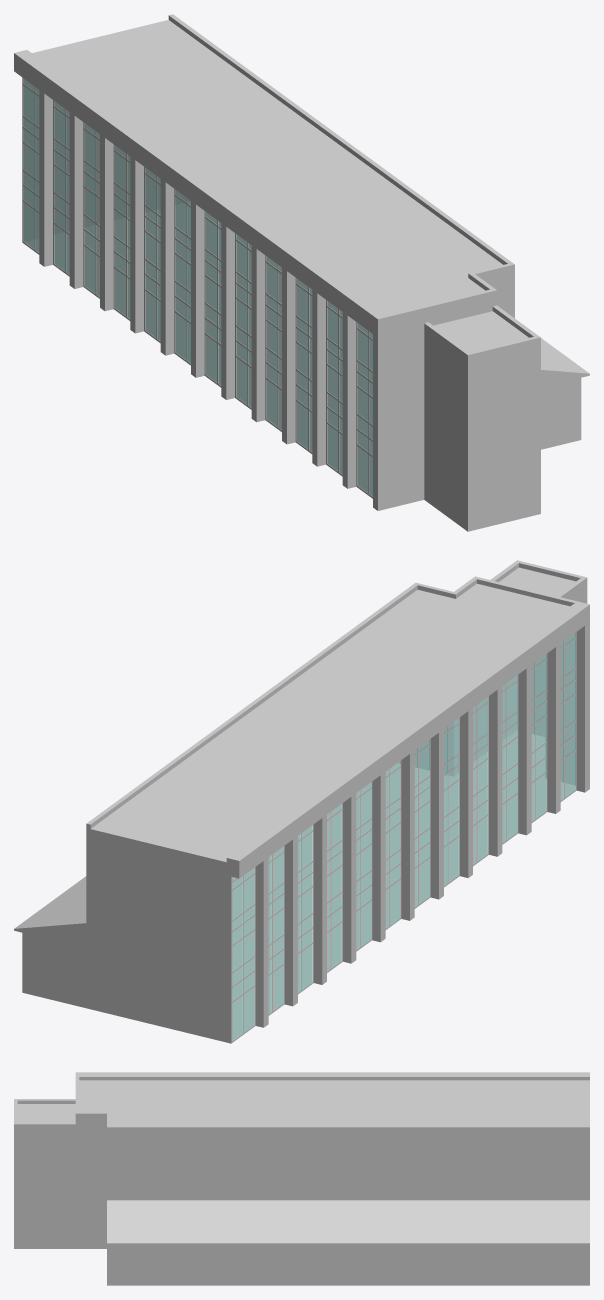
File: Lutgert_northSide.fbx
The picture shows the model from 3 angles, top to bottom: view 1: azimuth 30°, elevation 25°; view 2: azimuth 150°, elevation 25°; view 3: azimuth 270°, elevation 25°; orthographic projection. The views are drawn at different scales.
Visible parts, largest first — view 1: Model; view 2: Model; view 3: Model.
Boxes of the visible parts, left/top/right/bottom form: Model: left=14, top=14, right=589, bottom=531; Model: left=14, top=560, right=589, bottom=1043; Model: left=14, top=1072, right=589, bottom=1285.
Bounding box in the file's own units: 13.37 × 10.47 × 40.32.
